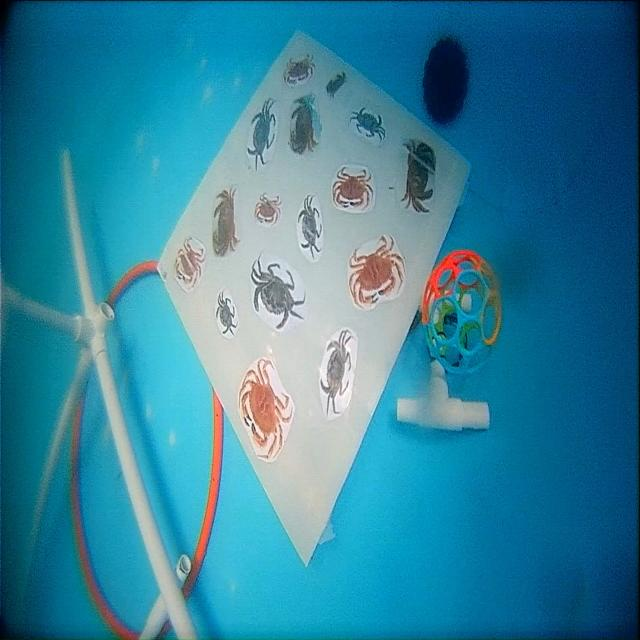GreenCrab: (251, 257, 305, 329), (320, 329, 353, 414), (247, 98, 276, 169), (298, 194, 321, 258), (349, 107, 385, 140), (216, 291, 237, 335)
